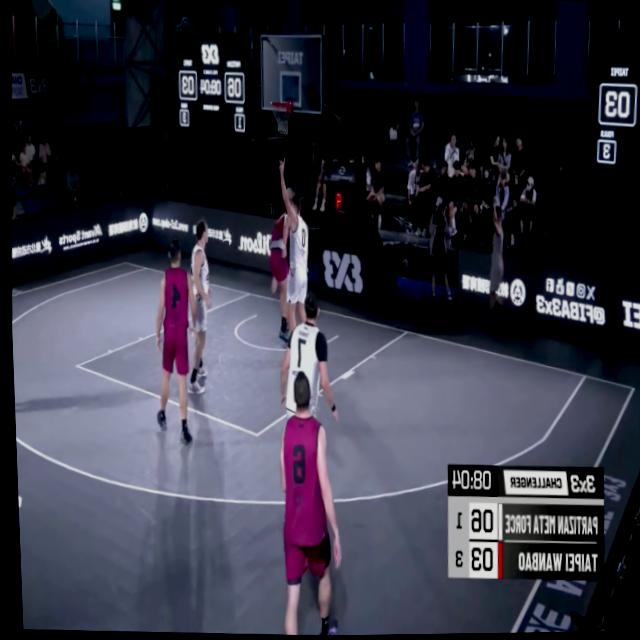hoop: (266, 96, 294, 137)
player: (267, 367, 347, 637), (270, 287, 341, 466), (142, 234, 200, 452), (270, 152, 319, 354), (178, 219, 218, 396), (261, 196, 298, 349)
